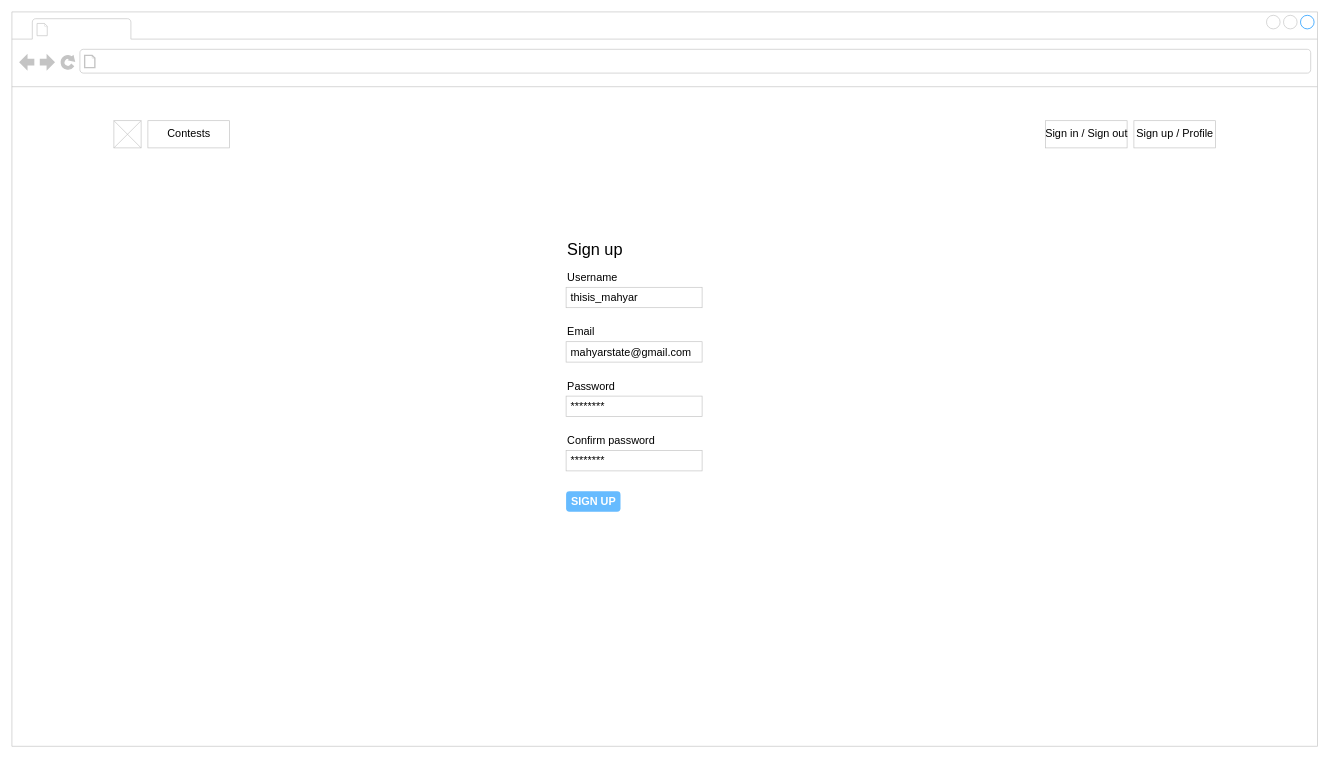
Image size: 1329x758. Some labels were removed from this diagram. Each missing label, with the centre of its shape:
https://www.icpc-archive.ir: the point at 185,61
ICPC Tehran: the point at 90,28
Logo: the point at 127,134
